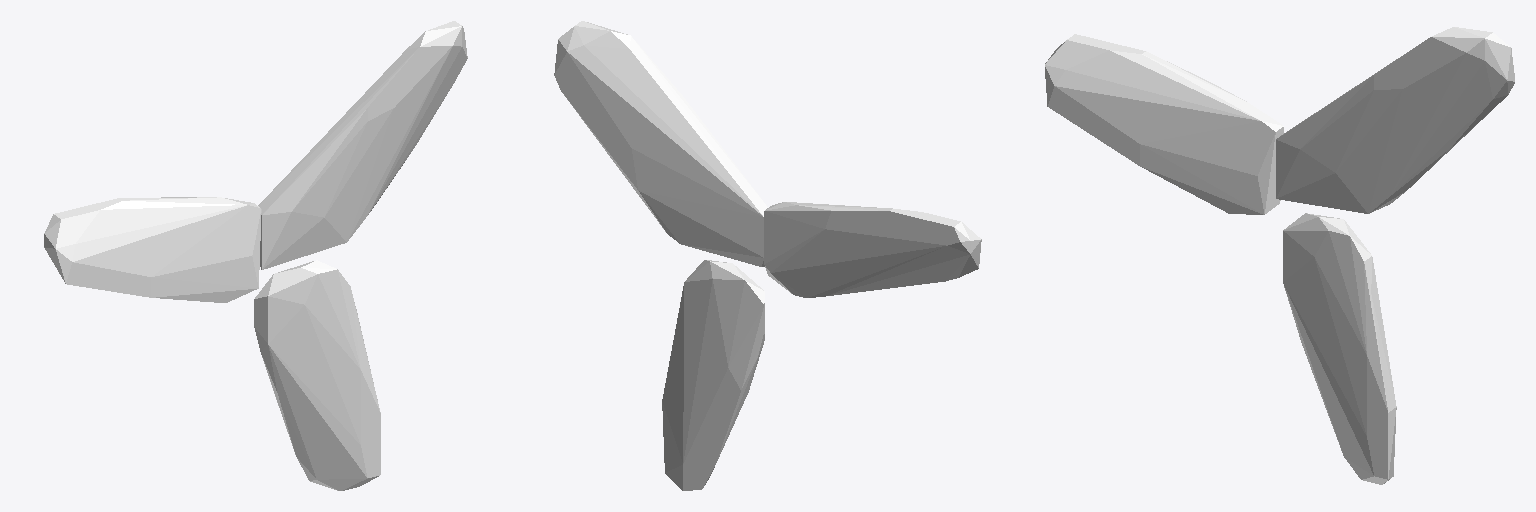
robot.urdf — cube.urdf:
<?xml version="0.0" ?>
<robot name="cube.urdf">
  <link concave="yes" name="baseLink">
    <inertial>
      <origin rpy="0 0 0" xyz="0 0 0"/>
       <mass value=".0"/>
       <inertia ixx="0" ixy="0" ixz="0" iyy="0" iyz="0" izz="0"/>
    </inertial>
    <visual>
      <origin rpy="0 0 0" xyz="0 0 0"/>
      <geometry>
				<mesh filename="prop.obj" scale="1 1 1"/>
      </geometry>
       <material name="white">
        <color rgba="1 1 1 1"/>
      </material>
    </visual>
    <collision>
      <origin rpy="0 0 0" xyz="0 0 0"/>
     <geometry>
				<mesh filename="prop.obj" scale="1 1 1"/>
      </geometry>
    </collision>
  </link>
</robot>

--- Facts derived from the render (not from the file) ---
3 views of the same robot in one strip: view 1: azimuth 30°, elevation 25°; view 2: azimuth 150°, elevation 25°; view 3: azimuth 330°, elevation 25° (orthographic).
Robot: cube.urdf — 1 links, 0 joints (none); root link baseLink; default pose: every joint at zero.
Links seen in each view (by area): view 1: baseLink; view 2: baseLink; view 3: baseLink.
Boxes of the visible links, left/top/right/bottom form: baseLink: left=44, top=21, right=467, bottom=490; baseLink: left=554, top=21, right=981, bottom=490; baseLink: left=1045, top=27, right=1514, bottom=484.
Bounding box of the posed robot: 6.53 × 0.5103 × 6.53 m (x, y, z).
Meshes: 1 distinct files referenced, 1 mesh visuals loaded (1 OBJ).